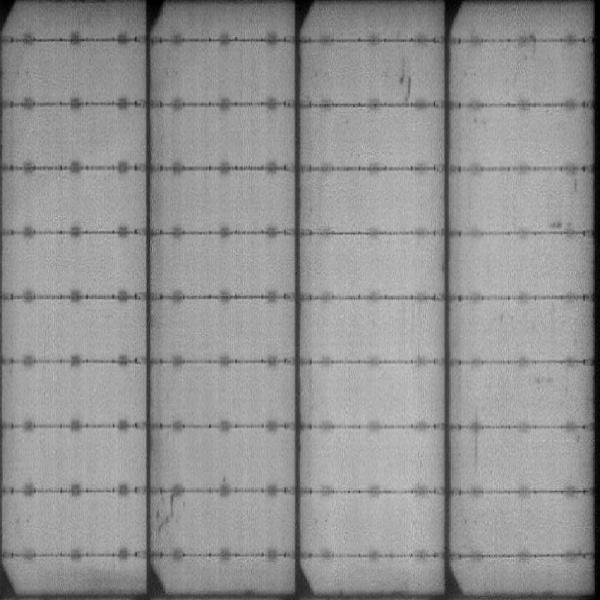scratch: (152, 489, 179, 534), (397, 59, 417, 103)
